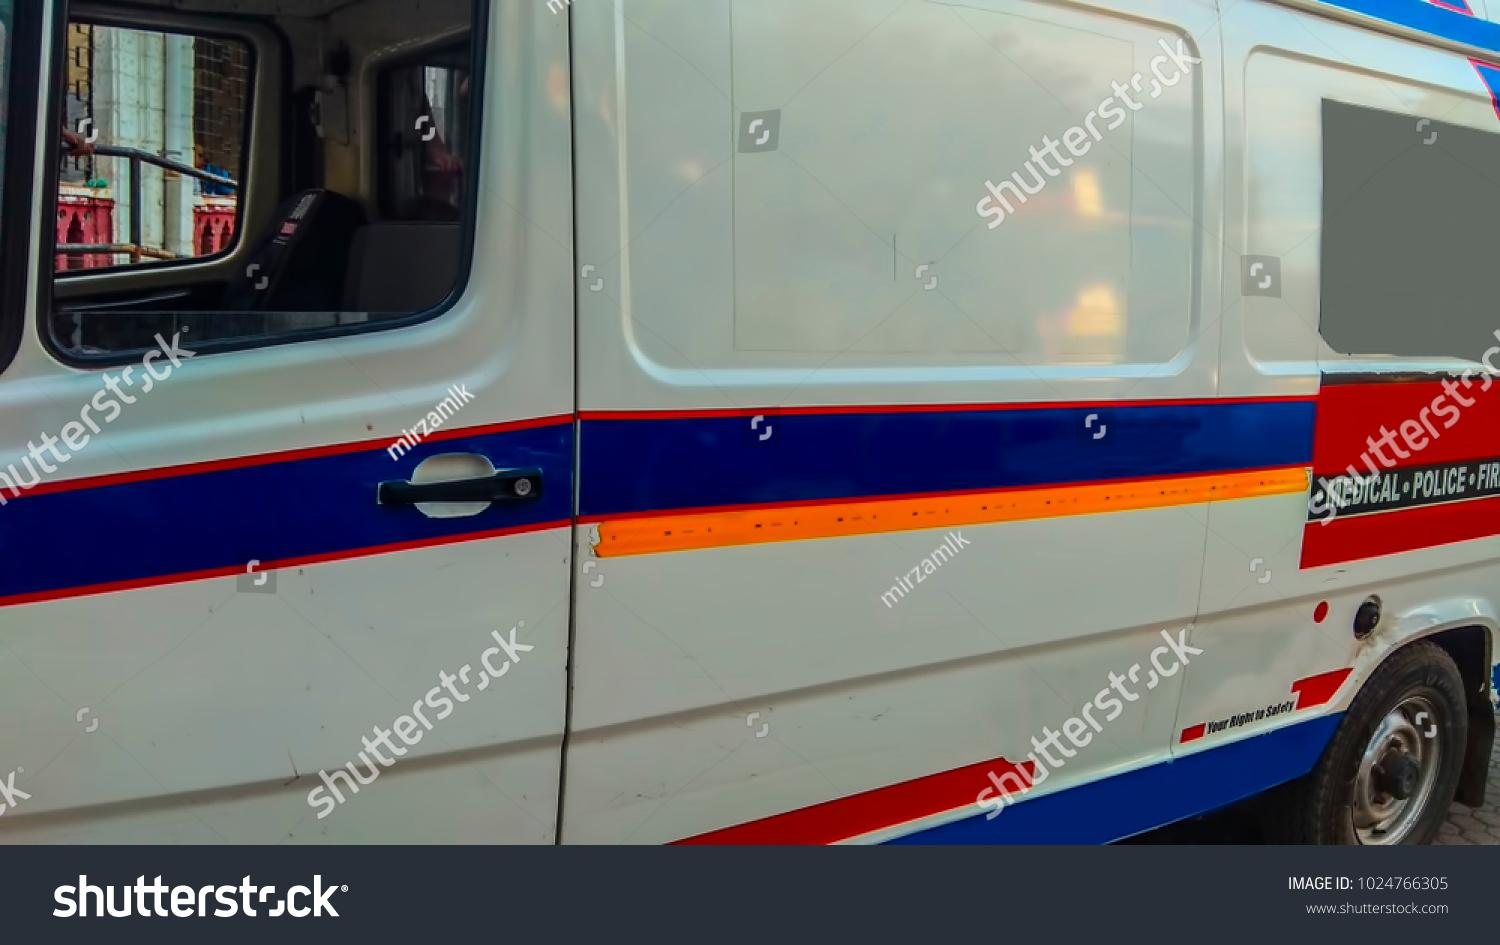ER: (0, 4, 1500, 847)
